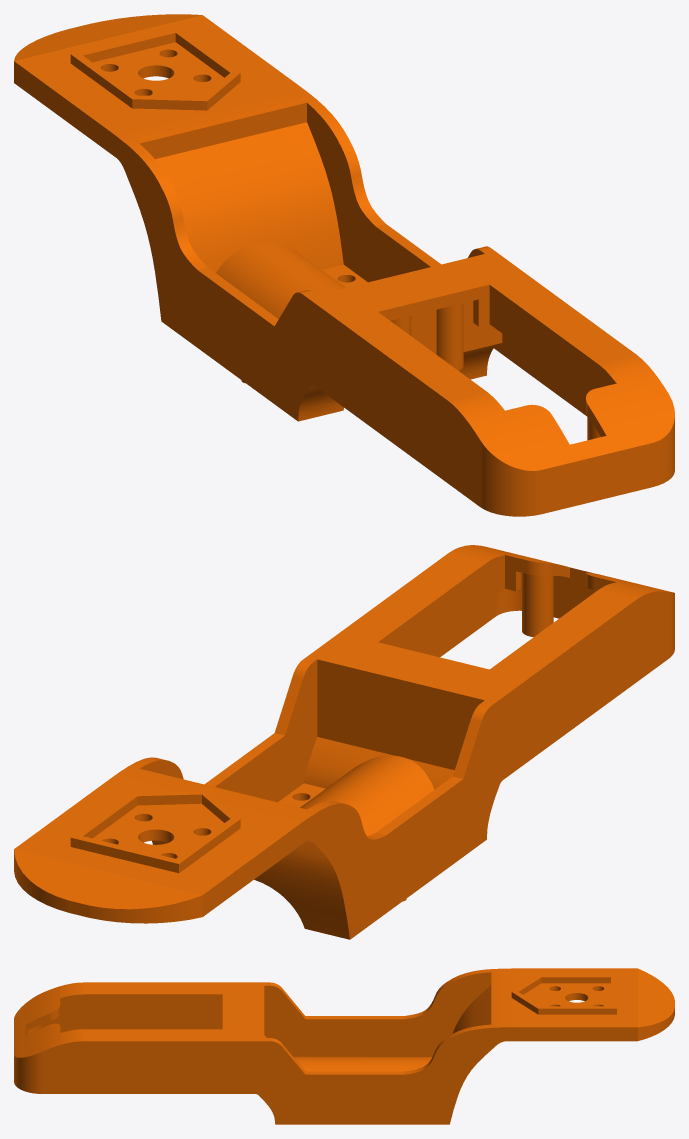
Rendered from testCoord.obj.
3 views of the same model, one above another, from view 1: azimuth 30°, elevation 25°; view 2: azimuth 150°, elevation 25°; view 3: azimuth 270°, elevation 25° (orthographic). The views are drawn at different scales.
Parts seen in each view (by area): view 1: Component10\LOWER11; view 2: Component10\LOWER11; view 3: Component10\LOWER11.
Part boxes in pixels (<box>): Component10\LOWER11: <box>14,14,674,516</box>; Component10\LOWER11: <box>14,545,674,939</box>; Component10\LOWER11: <box>14,968,674,1124</box>.
Size of the model in its own units: 36 by 31.99 by 171.
